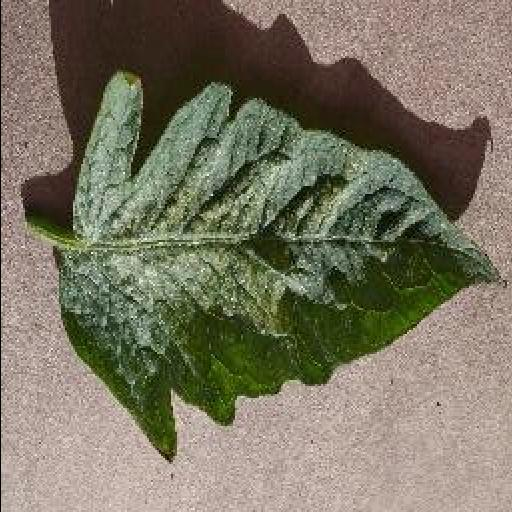disease_tomato: (54, 75, 510, 464)
